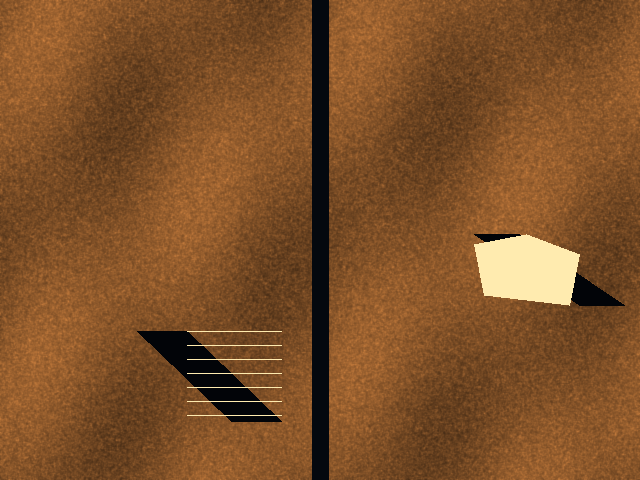Fishing Net: (187, 331, 281, 421)
Unknown Debris: (474, 234, 579, 305)
